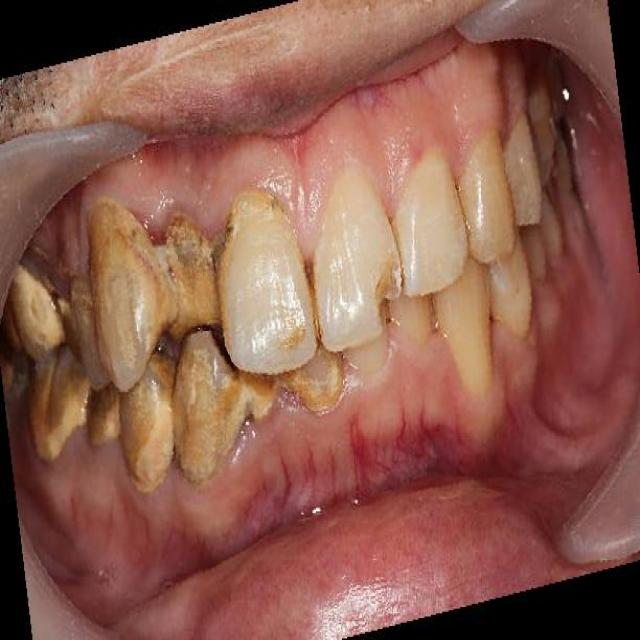caries: (364, 246, 412, 336)
